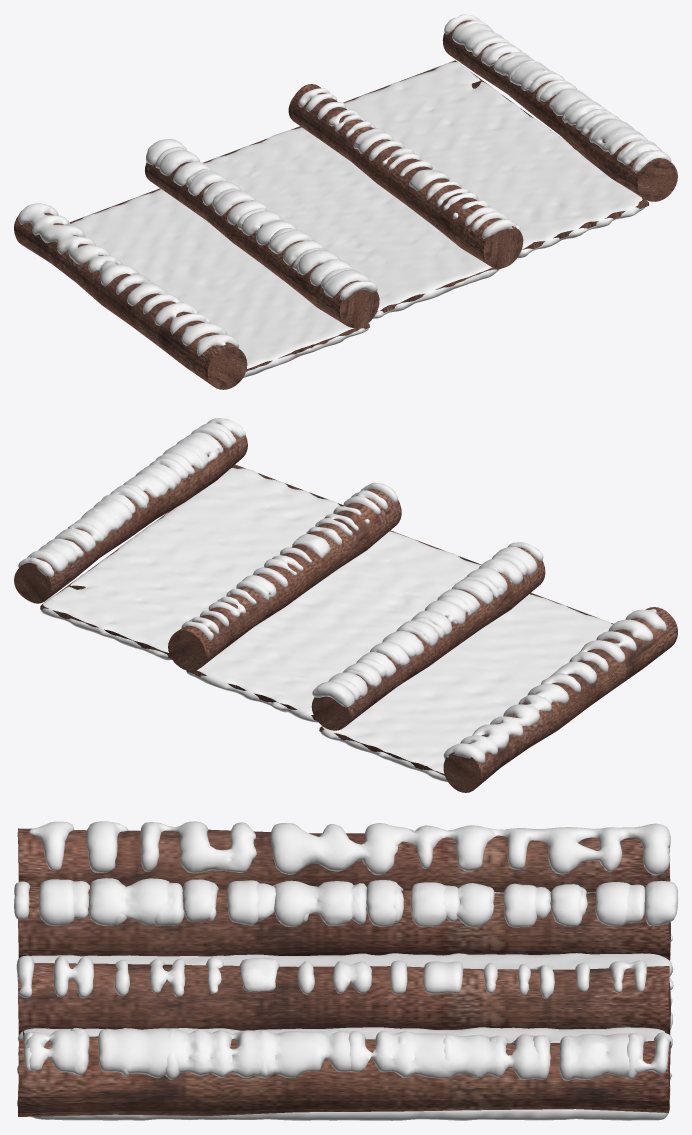
The model's file is stairs.fbx.
3 views of the same model, one above another, from view 1: azimuth 30°, elevation 25°; view 2: azimuth 150°, elevation 25°; view 3: azimuth 270°, elevation 25° (orthographic). The views are drawn at different scales.
Parts seen in each view (by area): view 1: SnowBall.003, SnowBall.002, SnowBall.001, Cylinder.002, Cylinder, SnowBall.005, SnowBall.010, SnowBall.004, Cylinder.003, Cylinder.001, SnowBall.007, SnowBall.006 (+2 smaller); view 2: SnowBall.003, SnowBall.002, SnowBall.001, Cylinder.002, SnowBall.010, Cylinder, SnowBall.004, SnowBall.005, Cylinder.003, Cylinder.001, SnowBall.007, SnowBall.006 (+2 smaller); view 3: Cylinder.002, Cylinder.003, SnowBall.010, Cylinder.001, SnowBall.004, SnowBall.005, Cylinder, SnowBall.007, SnowBall.003, SnowBall.002, SnowBall.006, SnowBall.008.
Boxes of the visible parts, <box> form: SnowBall.003: <box>344,62,644,258</box>; SnowBall.002: <box>204,127,498,318</box>; SnowBall.001: <box>70,188,368,377</box>; Cylinder.002: <box>288,84,523,268</box>; Cylinder: <box>14,213,247,389</box>; SnowBall.005: <box>145,139,369,297</box>; SnowBall.010: <box>444,14,669,169</box>; SnowBall.004: <box>18,203,239,355</box>; Cylinder.003: <box>442,20,677,201</box>; Cylinder.001: <box>145,161,379,328</box>; SnowBall.007: <box>298,88,520,238</box>; SnowBall.006: <box>155,147,377,299</box>; SnowBall.003: <box>41,468,340,660</box>; SnowBall.002: <box>186,531,480,722</box>; SnowBall.001: <box>320,594,612,782</box>; Cylinder.002: <box>168,489,401,671</box>; SnowBall.010: <box>18,418,242,577</box>; Cylinder: <box>443,607,677,792</box>; SnowBall.004: <box>443,609,666,763</box>; SnowBall.005: <box>312,546,536,707</box>; Cylinder.003: <box>14,431,247,603</box>; Cylinder.001: <box>311,547,545,730</box>; SnowBall.007: <box>181,482,397,640</box>; SnowBall.006: <box>328,542,543,700</box>; Cylinder.002: <box>18,963,670,1034</box>; Cylinder.003: <box>17,1036,670,1116</box>; SnowBall.010: <box>26,1028,672,1080</box>; Cylinder.001: <box>18,886,670,960</box>; SnowBall.004: <box>29,821,670,875</box>; SnowBall.005: <box>38,878,677,927</box>; Cylinder: <box>17,828,670,892</box>; SnowBall.007: <box>16,955,647,999</box>; SnowBall.003: <box>17,1027,671,1120</box>; SnowBall.002: <box>30,953,673,1029</box>; SnowBall.006: <box>14,881,644,925</box>; SnowBall.008: <box>22,1027,642,1079</box>.
Bounding box in the file's own units: 280 × 75.8 × 206.
11 materials, 2 textured.
